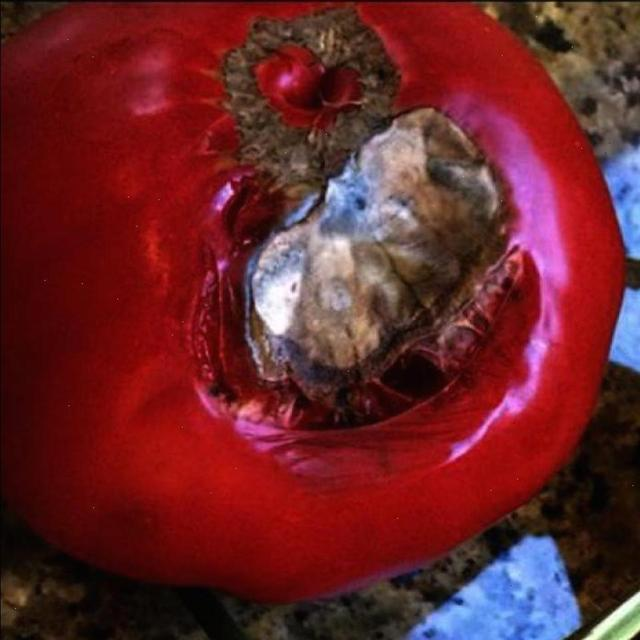Blossom End Rot Fruit: (132, 3, 356, 313)
